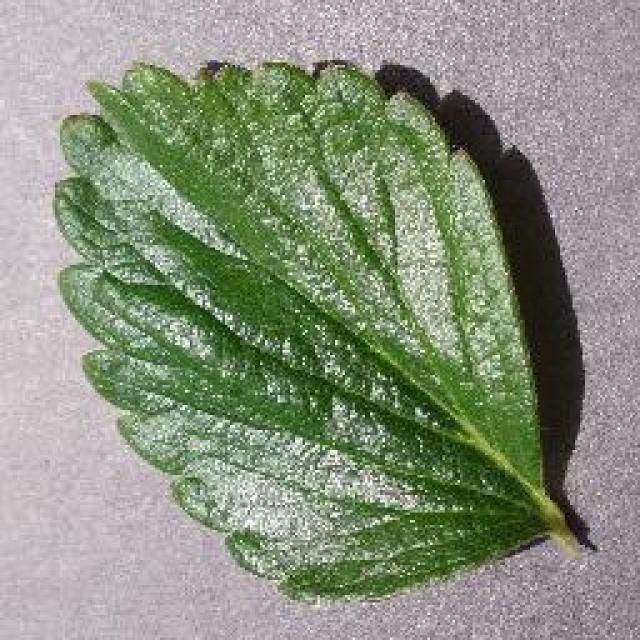Strawberry___healthy: (32, 35, 590, 630)
